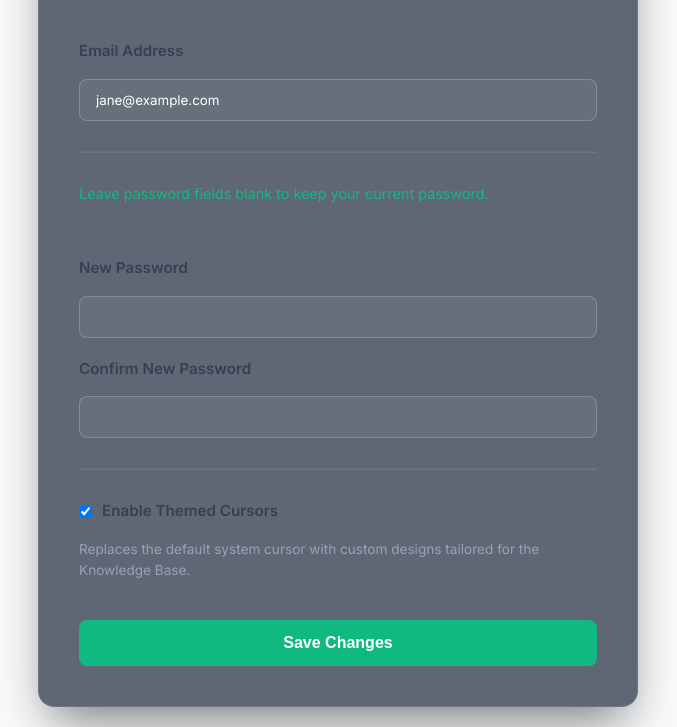
Scenario: ProfileSettings – custom cursor toggle › removes theme class and persists false when toggled off
(page scrolled)
Click the checkbox: [86, 512] box [79,505,92,518]
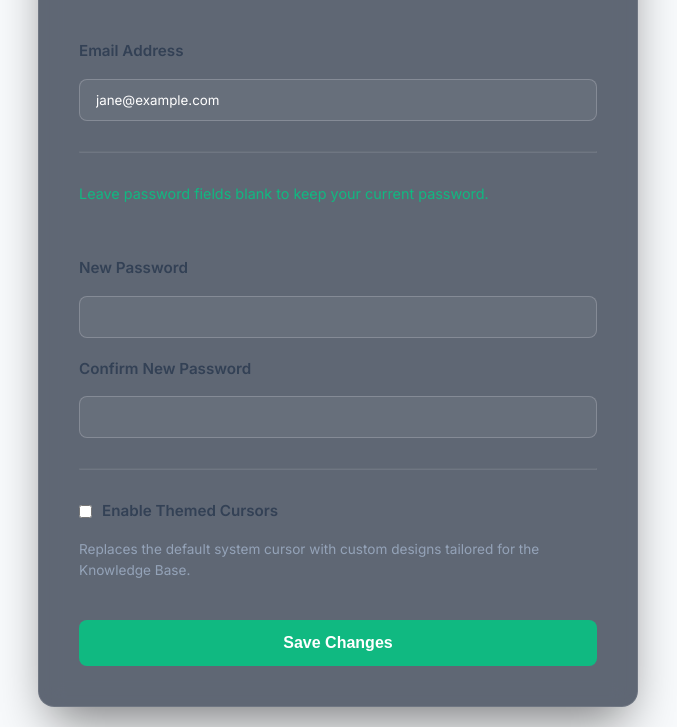
Result: the checkbox is not checked at [79,505,92,518]
